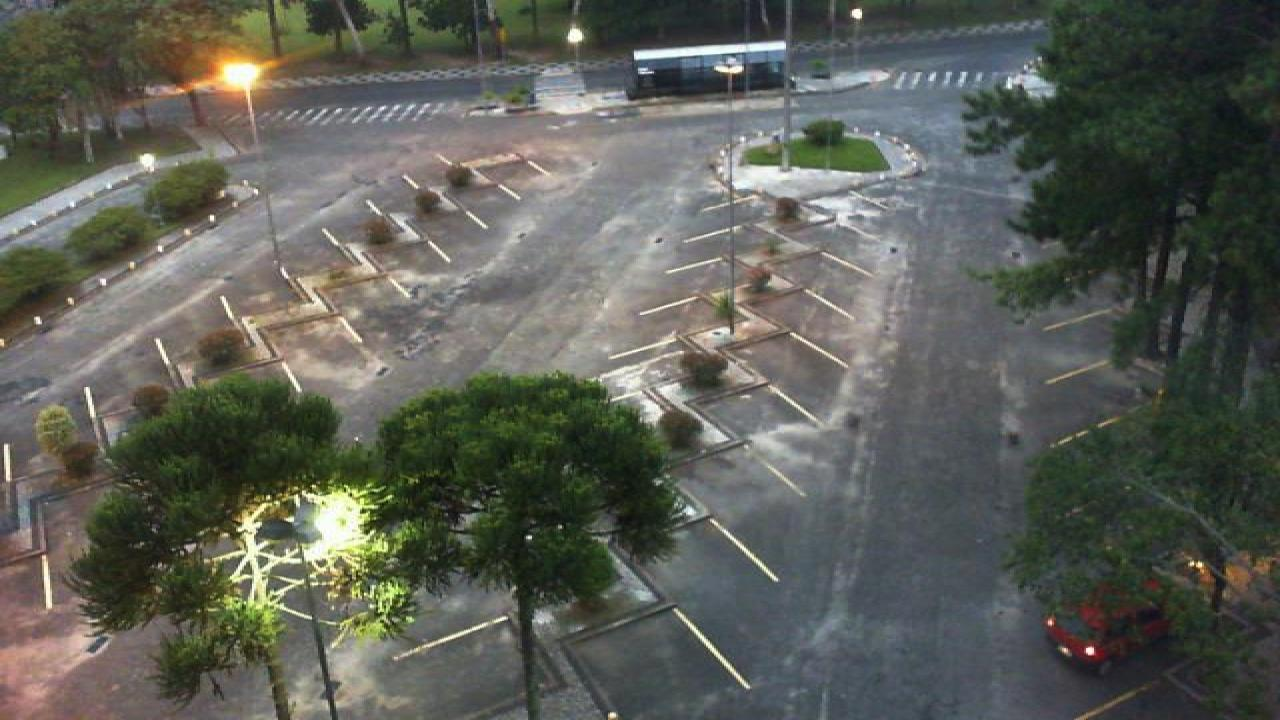Car: (1040, 575, 1176, 676)
